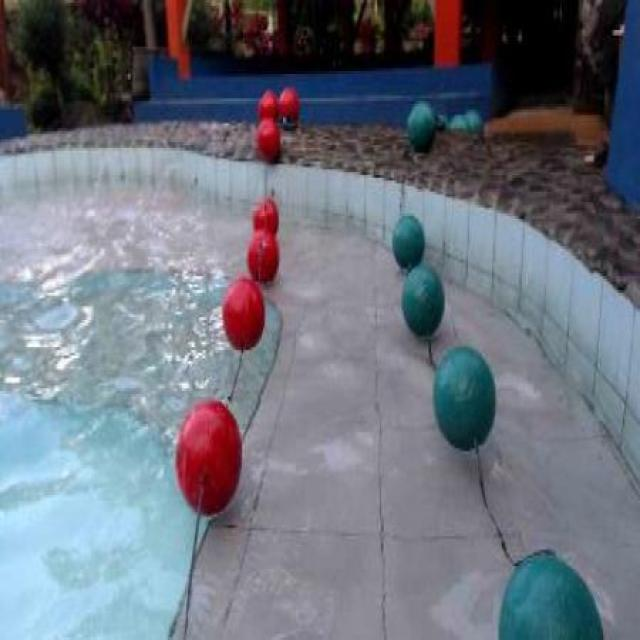buoy: (497, 551, 605, 637), (175, 398, 240, 516), (432, 345, 497, 449), (220, 278, 266, 352), (400, 261, 446, 335), (390, 214, 424, 272), (247, 225, 279, 284), (406, 98, 436, 154), (256, 114, 280, 158), (251, 201, 278, 237), (278, 86, 298, 122), (257, 86, 275, 122)
